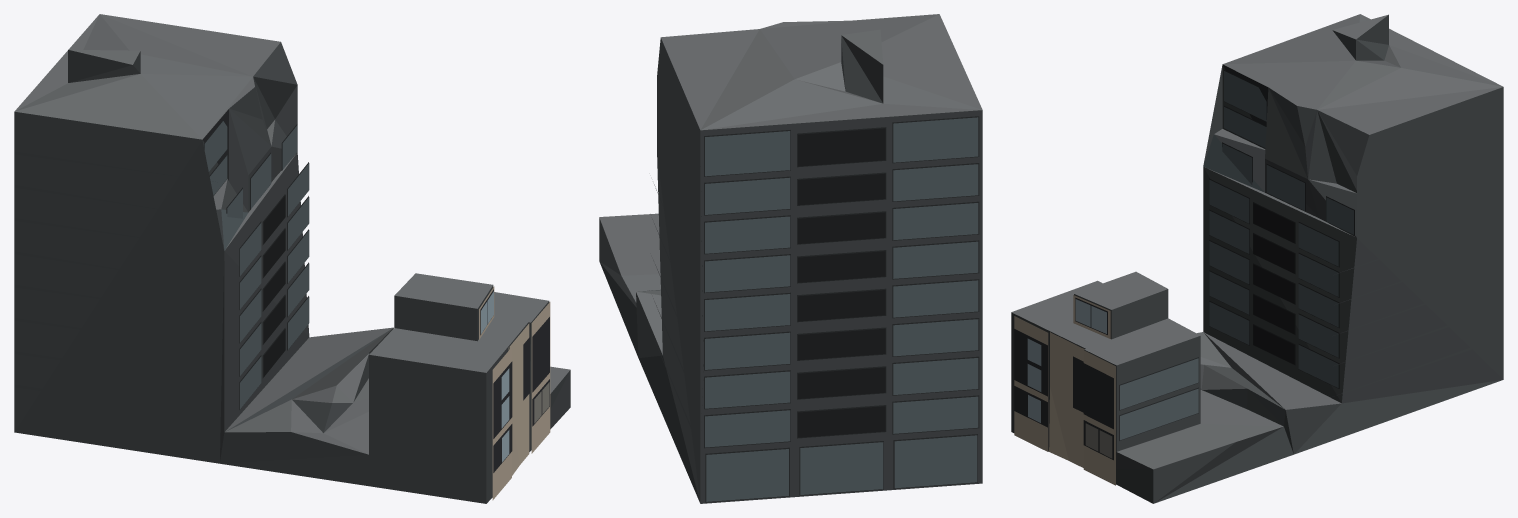
Rendered from haparandaweg-870-900.lod2.glb.
3 views of the same model, side by side, from view 1: azimuth 30°, elevation 25°; view 2: azimuth 150°, elevation 25°; view 3: azimuth 270°, elevation 25° (orthographic). The views are drawn at different scales.
Parts seen in each view (by area): view 1: lod2; view 2: lod2; view 3: lod2.
Part boxes in pixels (x1,y1,x2,y2): lod2: (14,14,570,503); lod2: (599,14,982,503); lod2: (1011,14,1503,503).
Bounding box in the file's own units: 41.78 × 31.92 × 44.1.
